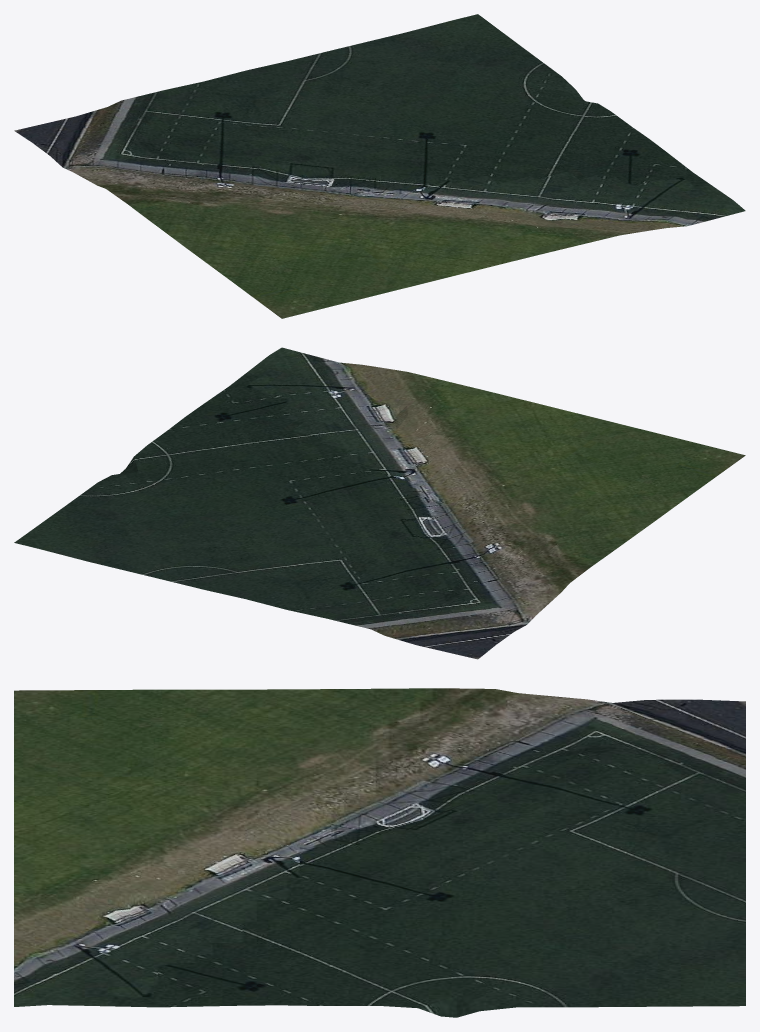
File: map_15_8183_13791.dae
The picture shows the model from 3 angles, top to bottom: view 1: azimuth 30°, elevation 25°; view 2: azimuth 150°, elevation 25°; view 3: azimuth 270°, elevation 25°; orthographic projection. The views are drawn at different scales.
Parts seen in each view (by area): view 1: Ter0; view 2: Ter0; view 3: Ter0.
Part boxes in pixels (x1,y1,x2,y2): Ter0: [14, 14, 745, 318]; Ter0: [14, 347, 745, 659]; Ter0: [14, 688, 745, 1017].
Bounding box in the file's own units: 63.87 × 63.88 × 1.95.
Materials: 3 (3 with a texture image).
